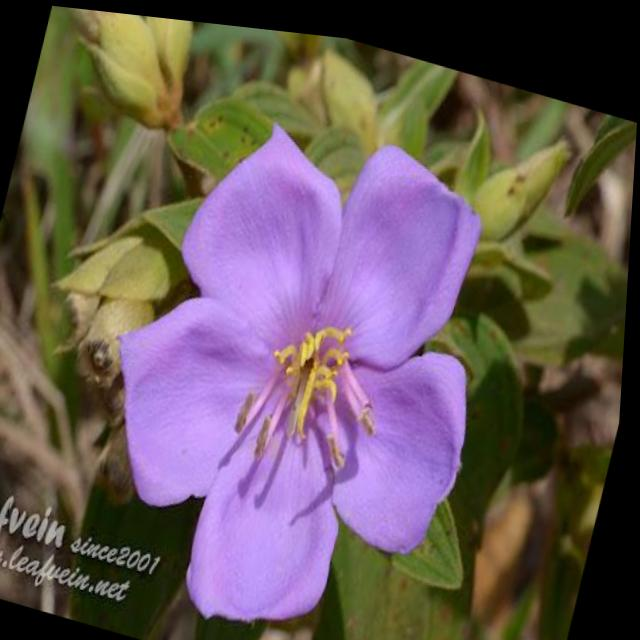Flower: (65, 69, 531, 640)
